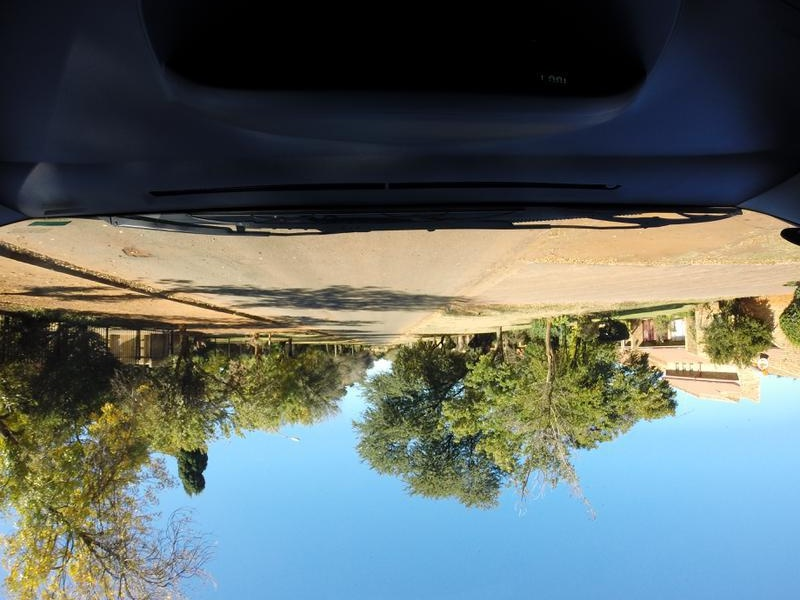pothole: (121, 241, 148, 263)
